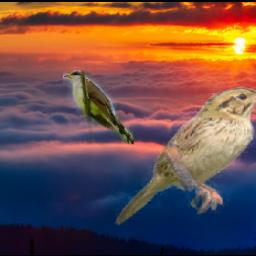Cuckoo: (63, 71, 134, 145)
Sparrow: (115, 87, 256, 226)
